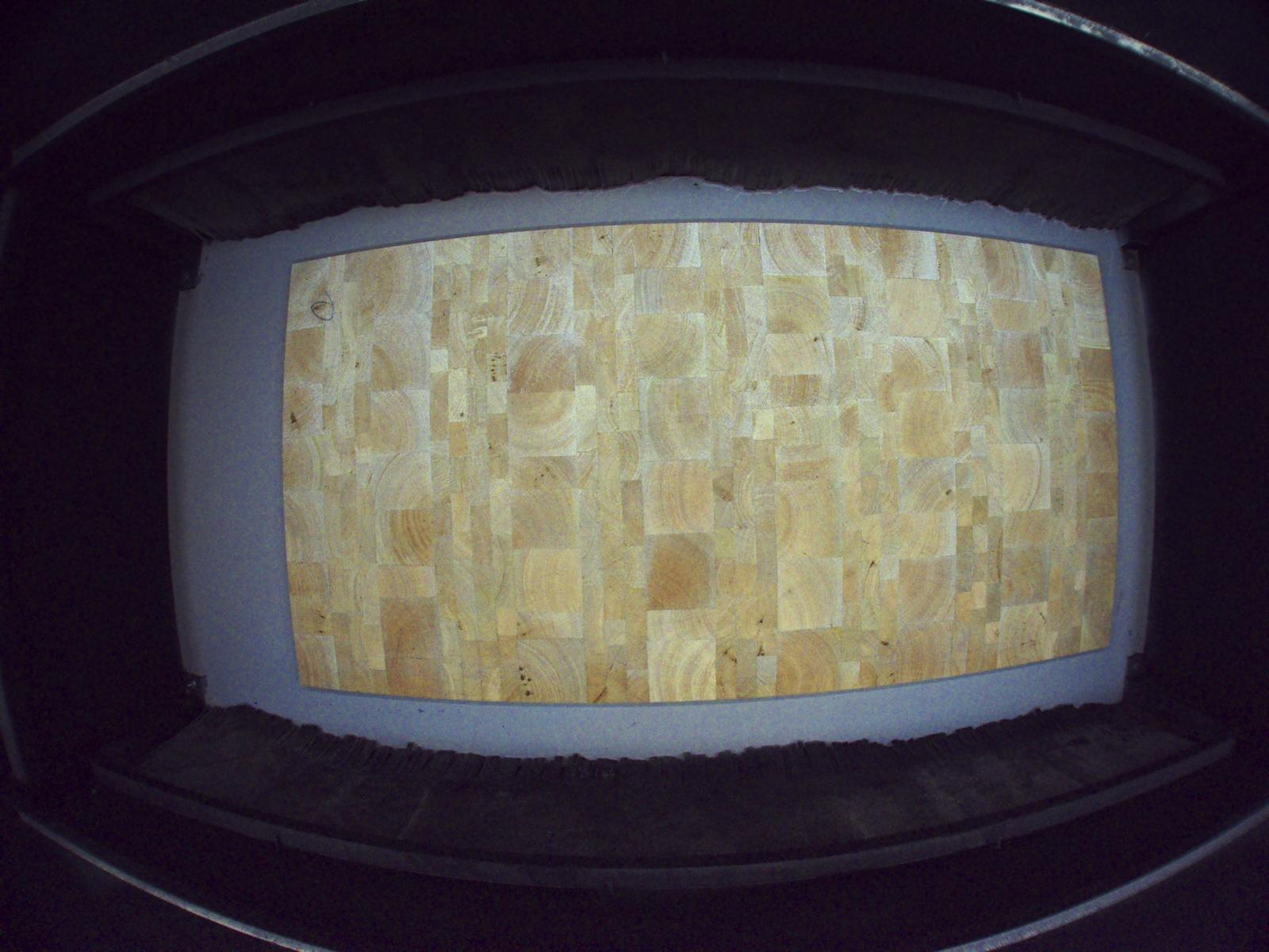nudillo: (312, 303, 327, 311)
